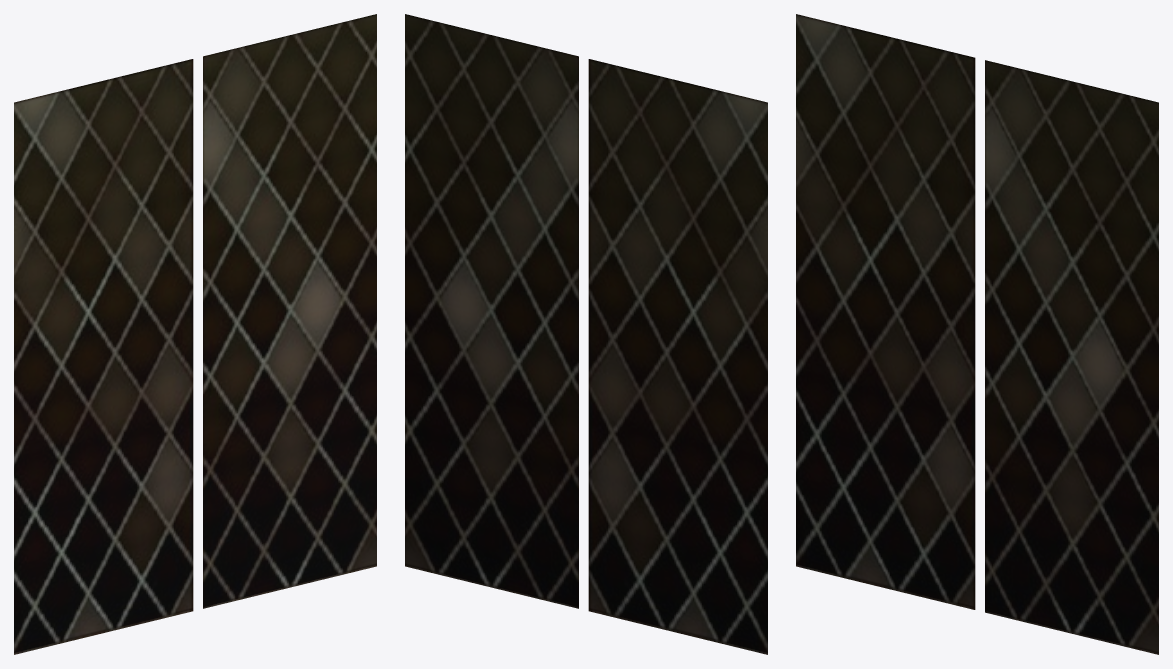
Rendered from WindowPane_SplitSquare.fbx.
3 renders of one model, left to right at view 1: azimuth 30°, elevation 25°; view 2: azimuth 150°, elevation 25°; view 3: azimuth 330°, elevation 25°, orthographic.
Visible parts, largest first — view 1: WindowPane_SplitSquare_LOD0; view 2: WindowPane_SplitSquare_LOD0; view 3: WindowPane_SplitSquare_LOD0.
Part boxes in pixels (box(x1,y1,x2,y2)): WindowPane_SplitSquare_LOD0: box(14, 14, 376, 654); WindowPane_SplitSquare_LOD0: box(405, 14, 767, 654); WindowPane_SplitSquare_LOD0: box(796, 14, 1158, 654).
Size of what is drawn, in the model's own units: 31.38 by 45.65 by 0.
